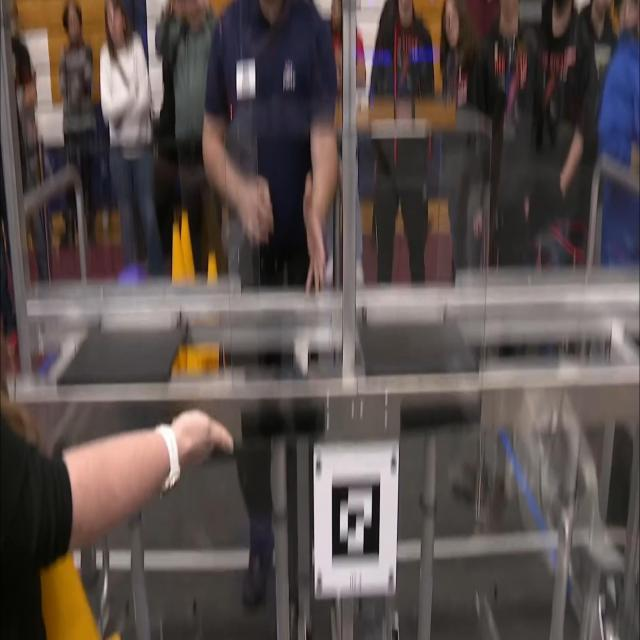frc_cone: (42, 540, 122, 640), (164, 227, 188, 293), (180, 209, 200, 285), (180, 340, 220, 372), (207, 254, 220, 294)
frc_cube: (119, 265, 148, 283)
